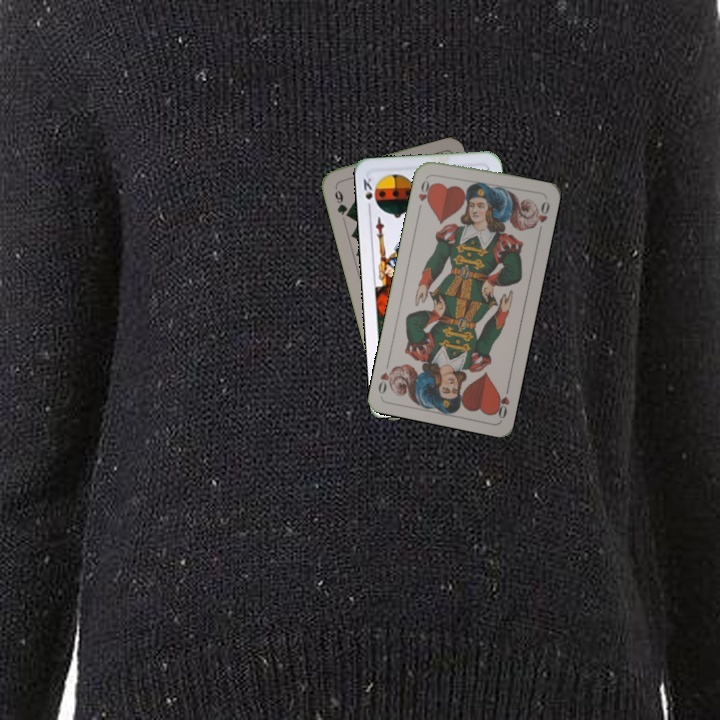G9: (330, 186, 352, 220)
HO: (414, 172, 435, 212), (491, 381, 512, 421)
SK: (359, 174, 375, 213)
